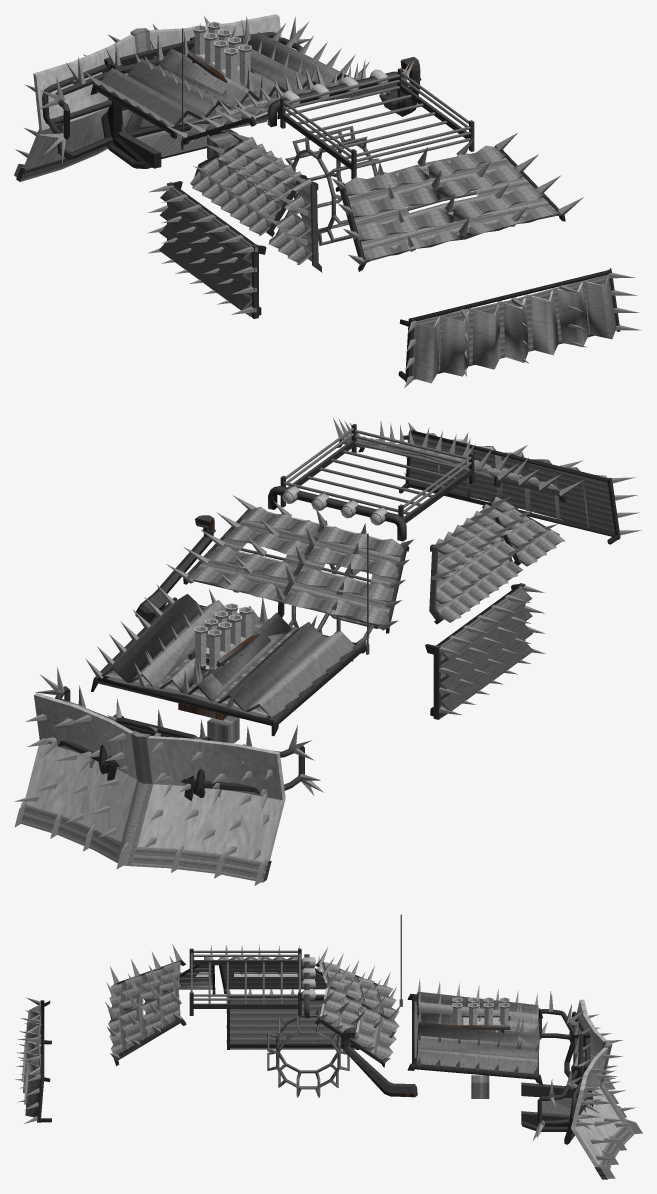
File: LuxuryCarArmor.fbx
The picture shows the model from 3 angles, top to bottom: view 1: azimuth 30°, elevation 25°; view 2: azimuth 150°, elevation 25°; view 3: azimuth 270°, elevation 25°; orthographic projection. The views are drawn at different scales.
Parts seen in each view (by area): view 1: trunkreinforcedrear, plow, windowreinforcedrear, hoodreinforcedfront, roofrack, windowfrontreinforcedleft, doorfrontreinforcedleft, windowheavyrear, windowheavyspikedrear, hoodreinforcedfrontscoop, pushbar_medium, windowfrontheavyleft (+18 smaller); view 2: plow, plow_spiked, hoodreinforcedfront, windowreinforcedfront, trunkheavyspikedrear, hoodreinforcedfrontscoop, windowfrontreinforcedleft, roofrack, doorfrontreinforcedleft, windowheavyfront, airscooppiped, trunkheavyrear (+20 smaller); view 3: hoodreinforcedfront, plow, doorfrontheavyleft, roofrack, windowreinforcedfront, hoodreinforcedfrontscoop, windowreinforcedrear, windowfrontheavyleft, plow_spiked, chaintires, trunkreinforcedrear, windowheavyspikedrear (+18 smaller).
Part boxes in pixels (box(x1,y1,x2,y2)): trunkreinforcedrear: box(405, 269, 620, 383); plow: box(14, 14, 281, 181); windowreinforcedrear: box(344, 145, 560, 262); hoodreinforcedfront: box(101, 32, 346, 133); roofrack: box(280, 68, 474, 179); windowfrontreinforcedleft: box(190, 136, 312, 264); doorfrontreinforcedleft: box(159, 185, 255, 316); windowheavyrear: box(335, 145, 565, 271); windowheavyspikedrear: box(331, 133, 583, 265); hoodreinforcedfrontscoop: box(101, 34, 331, 128); pushbar_medium: box(56, 40, 242, 168); windowfrontheavyleft: box(194, 140, 322, 272); plow: box(14, 693, 285, 885); plow_spiked: box(14, 695, 282, 861); hoodreinforcedfront: box(97, 594, 361, 722); windowreinforcedfront: box(187, 506, 403, 625); trunkheavyspikedrear: box(404, 422, 641, 535); hoodreinforcedfrontscoop: box(96, 596, 356, 725); windowfrontreinforcedleft: box(435, 496, 565, 622); roofrack: box(280, 424, 474, 523); doorfrontreinforcedleft: box(437, 586, 533, 717); windowheavyfront: box(186, 512, 409, 631); airscooppiped: box(178, 603, 259, 720); trunkheavyrear: box(399, 434, 618, 544); hoodreinforcedfront: box(412, 992, 539, 1074); plow: box(536, 999, 642, 1179); doorfrontheavyleft: box(227, 993, 359, 1049); roofrack: box(189, 948, 301, 1015); windowreinforcedfront: box(322, 962, 399, 1060); hoodreinforcedfrontscoop: box(412, 991, 537, 1073); windowreinforcedrear: box(108, 961, 180, 1054); windowfrontheavyleft: box(179, 959, 325, 994); plow_spiked: box(575, 1014, 636, 1163); chaintires: box(267, 1006, 349, 1097); trunkreinforcedrear: box(21, 1000, 44, 1122); windowheavyspikedrear: box(105, 944, 182, 1060).
Bounding box in the file's own units: 293 × 226 × 698.
